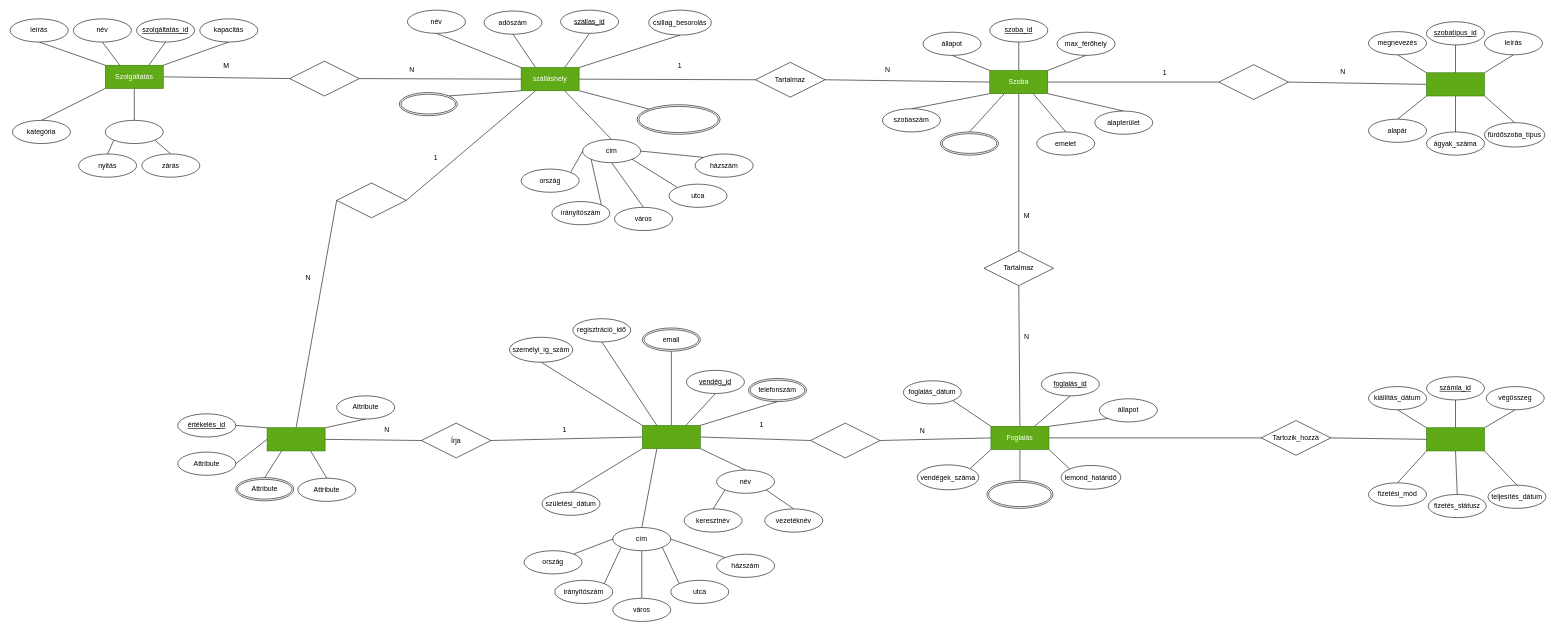
Image size: 1556x632. Some labels were removed from this diagram. The centre of each missing label's shape, as x and y in pixels:
"Besorolja" belongs at [1253,81].
"felszereltség" belongs at [969,143].
"kapcsolat_telefonszám" belongs at [678,119].
"Kapja" belongs at [371,200].
"kép_url" belongs at [428,104].
"Kínálja" belongs at [324,78].
"különleges_kérés" belongs at [1019,494].
"Leadja" belongs at [845,440].
"nyitvatartás" belongs at [134,132].
"Szobatípus" belongs at [1455,84].
"Számla" belongs at [1455,439].
"Vendég" belongs at [671,437].
"Értékelés" belongs at [296,439].
